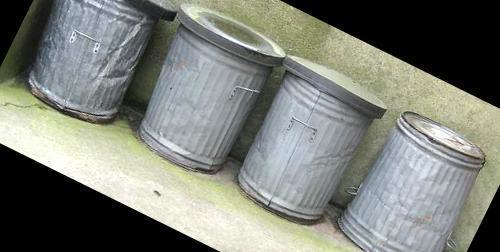Bote de Basura: (220, 44, 386, 234), (118, 0, 285, 180), (334, 99, 500, 252), (12, 0, 179, 131)
